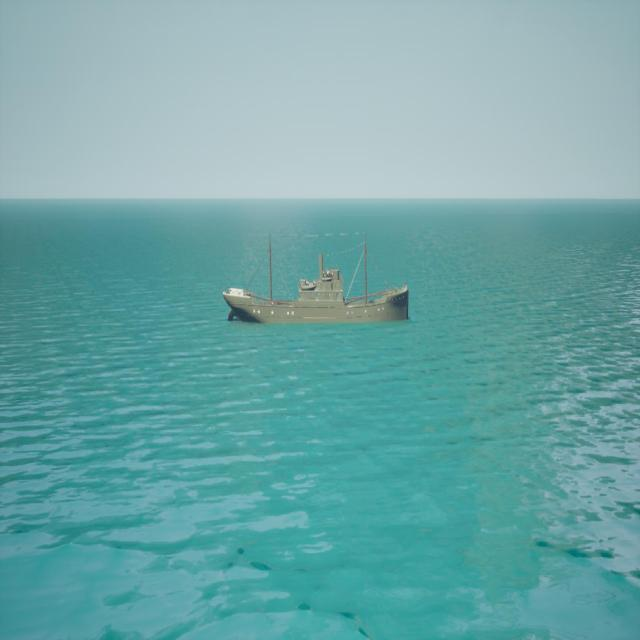fishing ship: (225, 234, 412, 326)
